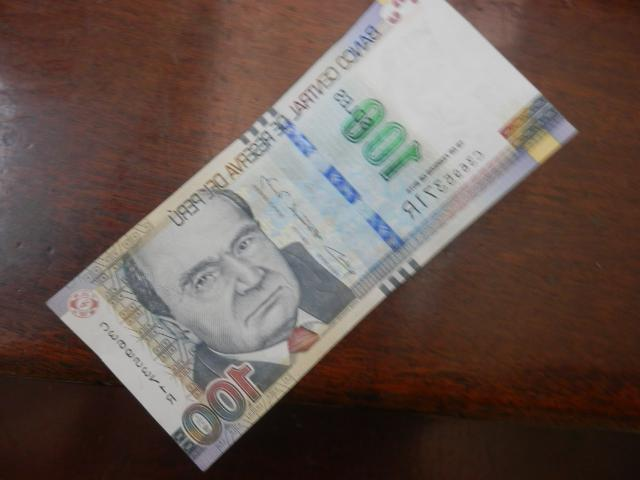B100: (44, 1, 577, 472)
